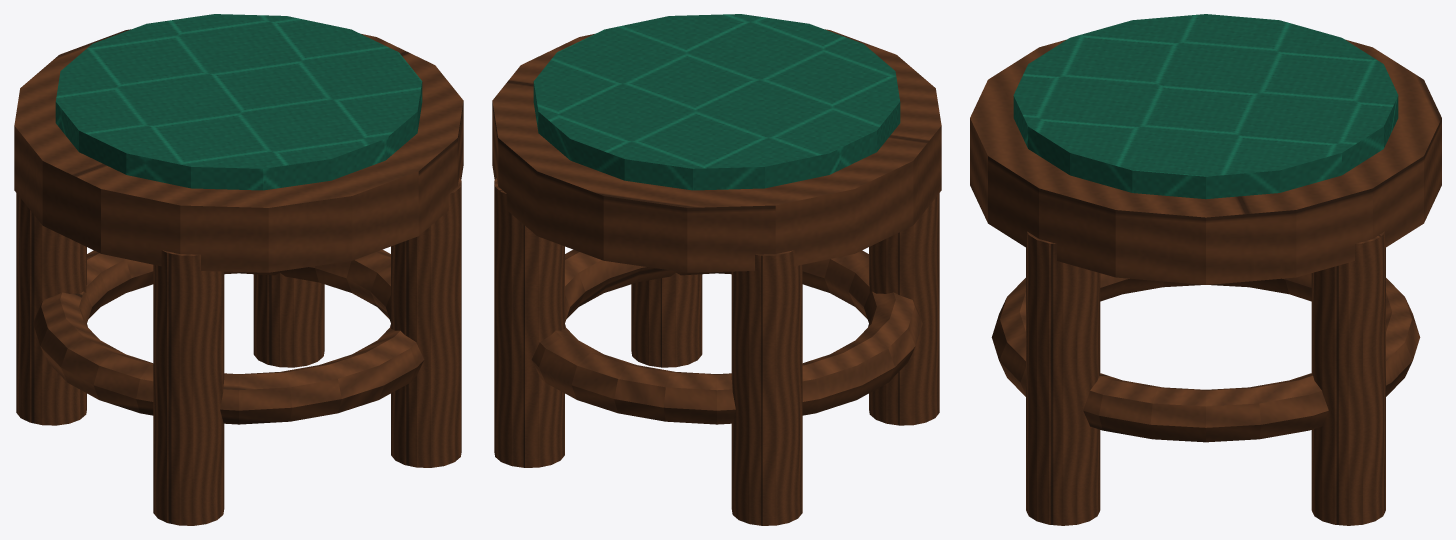
The model's file is carved_stool.glb.
3 views of the same model, side by side, from view 1: azimuth 30°, elevation 25°; view 2: azimuth 150°, elevation 25°; view 3: azimuth 270°, elevation 25° (orthographic). The views are drawn at different scales.
Parts seen in each view (by area): view 1: carved_stool_Walnut, carved_stool_Silk; view 2: carved_stool_Walnut, carved_stool_Silk; view 3: carved_stool_Walnut, carved_stool_Silk.
Part boxes in pixels (box(x1,y1,x2,y2)): carved_stool_Walnut: box(14, 29, 463, 525); carved_stool_Silk: box(55, 14, 422, 190); carved_stool_Walnut: box(492, 29, 941, 525); carved_stool_Silk: box(533, 14, 900, 190); carved_stool_Walnut: box(970, 39, 1441, 525); carved_stool_Silk: box(1013, 14, 1398, 199).
Bounding box in the file's own units: 0.76 × 0.63 × 0.76.
Materials: 2 (2 with a texture image).
